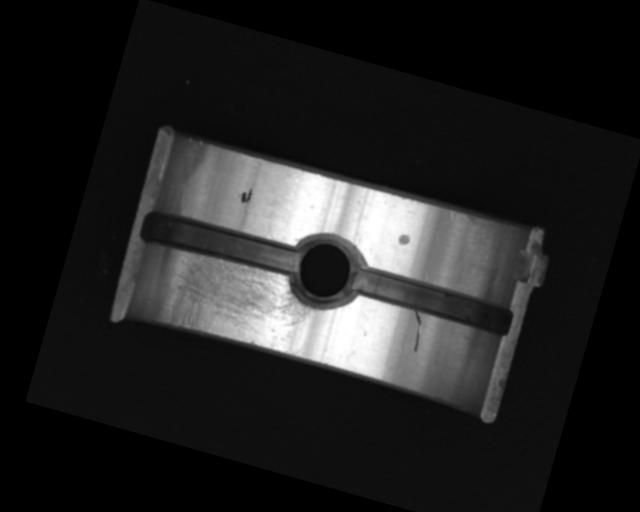blot: (239, 186, 254, 205)
bruise: (397, 231, 411, 247)
gap: (348, 262, 517, 339), (138, 205, 304, 282)
hole: (281, 226, 370, 319)
nick: (404, 308, 428, 353)
scratch: (157, 244, 322, 362)
